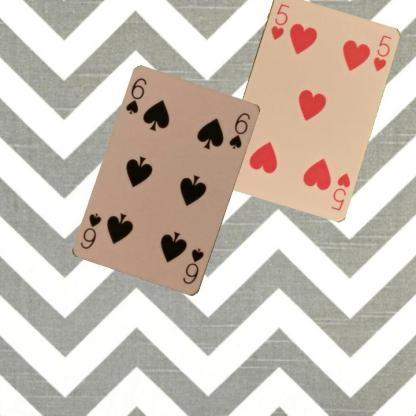5h: (328, 170, 351, 212), (268, 1, 291, 41)
6s: (123, 76, 149, 116), (180, 246, 205, 286)
